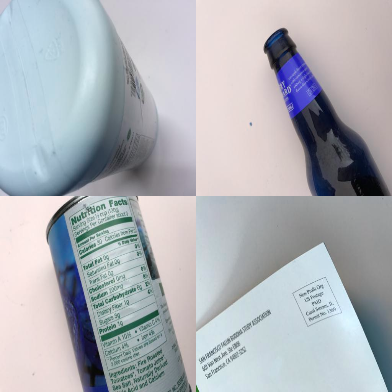glass: (262, 27, 391, 195)
metal: (44, 197, 193, 391)
paper: (196, 242, 389, 392)
plastic: (1, 1, 159, 195)
